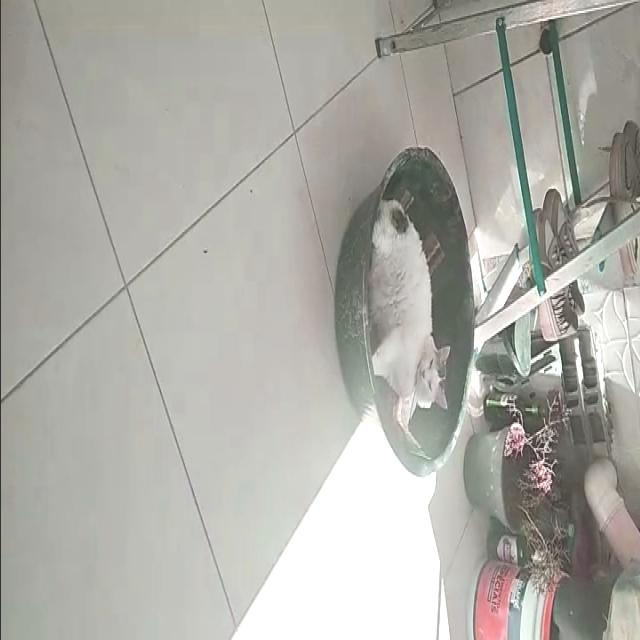Simba: (374, 192, 452, 442)
